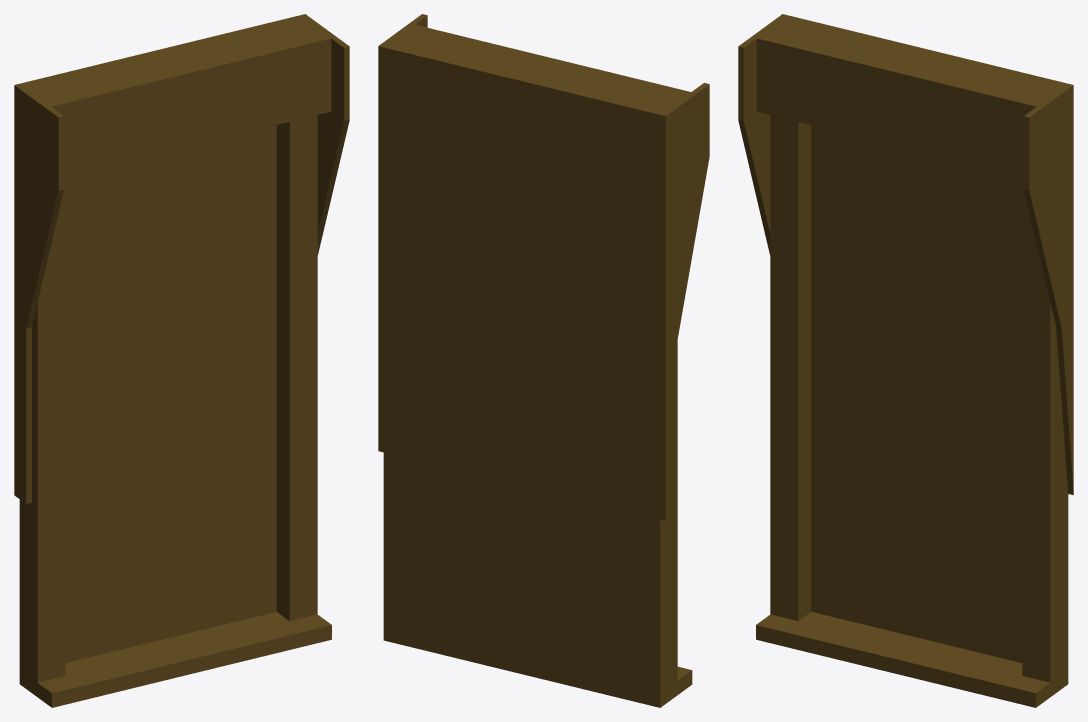
Rendered from DisplayBoard_One.fbx.
3 renders of one model, left to right at view 1: azimuth 30°, elevation 25°; view 2: azimuth 150°, elevation 25°; view 3: azimuth 330°, elevation 25°, orthographic.
Visible parts, largest first — view 1: DisplayStand_One; view 2: DisplayStand_One; view 3: DisplayStand_One.
Part boxes in pixels (box(x1,y1,x2,y2)): DisplayStand_One: box(14, 14, 349, 707); DisplayStand_One: box(378, 14, 709, 707); DisplayStand_One: box(738, 14, 1073, 707).
Size of the model in its own units: 520 by 1025 by 137.
